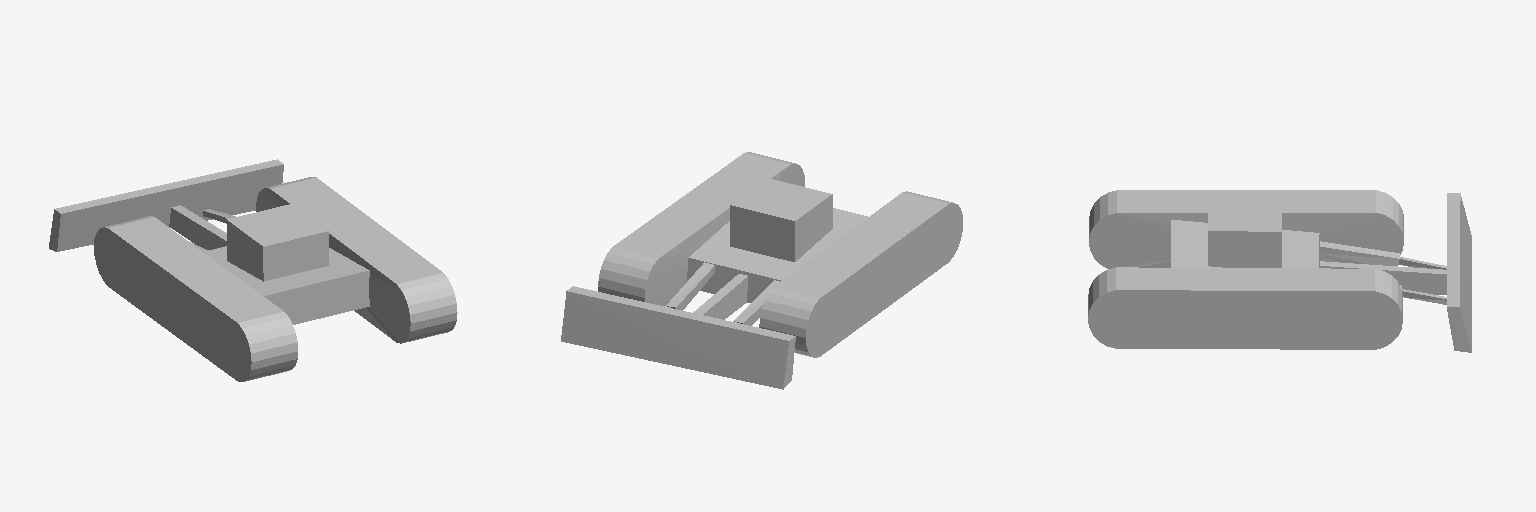
File: Tracks.obj
3 renders of one model, left to right at view 1: azimuth 30°, elevation 25°; view 2: azimuth 150°, elevation 25°; view 3: azimuth 270°, elevation 25°, orthographic.
Visible parts, largest first — view 1: Digger_Tracks; view 2: Digger_Tracks; view 3: Digger_Tracks.
Part boxes in pixels (bbox=[...]): Digger_Tracks: bbox=[49, 159, 457, 381]; Digger_Tracks: bbox=[561, 152, 962, 389]; Digger_Tracks: bbox=[1088, 190, 1471, 352].
Size of the model in its own units: 302 by 110 by 451.